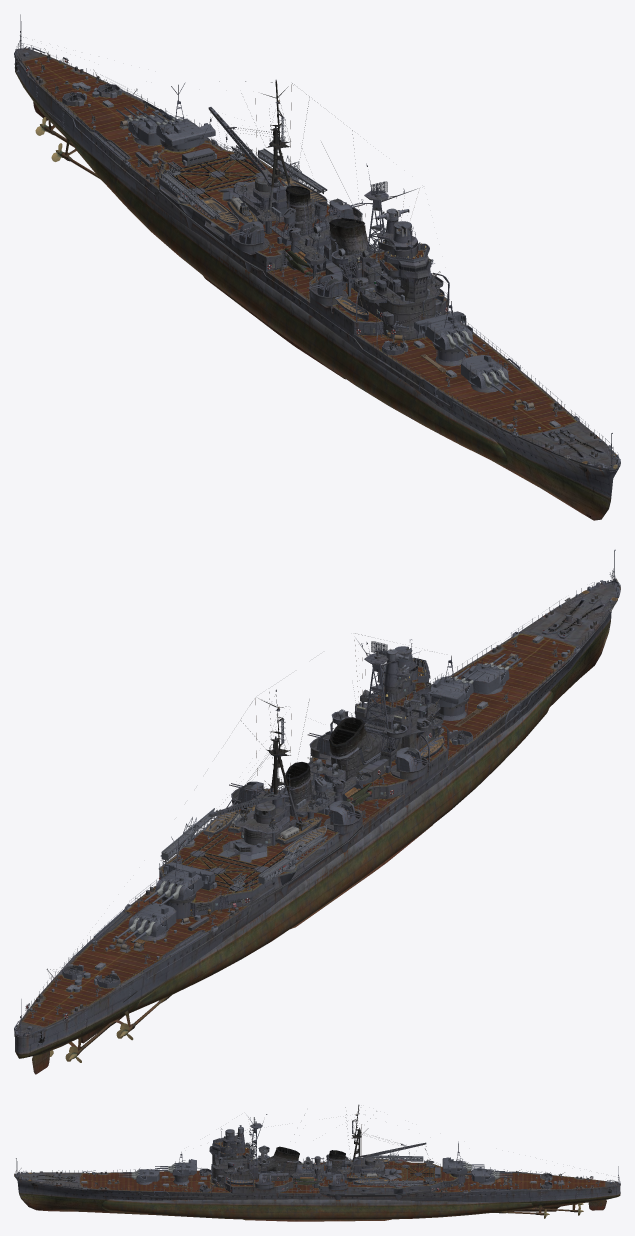
File: japanese_light_cruiser_7-suzuka-maximum-compressed.glb
The picture shows the model from 3 angles, top to bottom: view 1: azimuth 30°, elevation 25°; view 2: azimuth 150°, elevation 25°; view 3: azimuth 270°, elevation 25°; orthographic projection. The views are drawn at different scales.
Parts seen in each view (by area): view 1: JSC008_Myoko_1945_midfront, JSC008_Myoko_1945_midfront_Mogami_jgm029_155mm50_type_91_ski, JSC008_Myoko_1945_midfront_Myoko_jsc008_myoko_1945_wire_185_, JSC008_Myoko_1945_midfront_Myoko_jc001_catapult_shiki2_skinn, JSC008_Myoko_1945_midfront_Myoko_jgs042_127mm40_type89_3_ski; view 2: JSC008_Myoko_1945_midfront, JSC008_Myoko_1945_midfront_Mogami_jgm029_155mm50_type_91_ski, JSC008_Myoko_1945_midfront_Myoko_jsc008_myoko_1945_wire_185_, JSC008_Myoko_1945_midfront_Myoko_jc001_catapult_shiki2_skinn, JSC008_Myoko_1945_midfront_Myoko_jgs042_127mm40_type89_3_ski; view 3: JSC008_Myoko_1945_midfront, JSC008_Myoko_1945_midfront_Mogami_jgm029_155mm50_type_91_ski, JSC008_Myoko_1945_midfront_Myoko_jsc008_myoko_1945_wire_185_, JSC008_Myoko_1945_midfront_Myoko_jc001_catapult_shiki2_skinn, JSC008_Myoko_1945_midfront_Myoko_jgs042_127mm40_type89_3_ski.
Part boxes in pixels (x1,y1,x2,y2): JSC008_Myoko_1945_midfront: (14,14,620,520); JSC008_Myoko_1945_midfront_Mogami_jgm029_155mm50_type_91_ski: (116,105,520,394); JSC008_Myoko_1945_midfront_Myoko_jsc008_myoko_1945_wire_185_: (16,37,618,464); JSC008_Myoko_1945_midfront_Myoko_jc001_catapult_shiki2_skinn: (160,148,327,220); JSC008_Myoko_1945_midfront_Myoko_jgs042_127mm40_type89_3_ski: (239,198,354,296); JSC008_Myoko_1945_midfront: (14,549,620,1074); JSC008_Myoko_1945_midfront_Mogami_jgm029_155mm50_type_91_ski: (116,654,521,942); JSC008_Myoko_1945_midfront_Myoko_jsc008_myoko_1945_wire_185_: (16,573,618,1045); JSC008_Myoko_1945_midfront_Myoko_jc001_catapult_shiki2_skinn: (160,808,327,884); JSC008_Myoko_1945_midfront_Myoko_jgs042_127mm40_type89_3_ski: (238,731,422,825); JSC008_Myoko_1945_midfront: (14,1104,620,1221); JSC008_Myoko_1945_midfront_Mogami_jgm029_155mm50_type_91_ski: (119,1157,512,1182); JSC008_Myoko_1945_midfront_Myoko_jsc008_myoko_1945_wire_185_: (15,1107,620,1199); JSC008_Myoko_1945_midfront_Myoko_jc001_catapult_shiki2_skinn: (364,1153,423,1188); JSC008_Myoko_1945_midfront_Myoko_jgs042_127mm40_type89_3_ski: (257,1155,344,1185).
Bounding box in the file's own units: 0.0175 × 0.0266 × 0.1356.
Materials: 80 (79 with a texture image).
